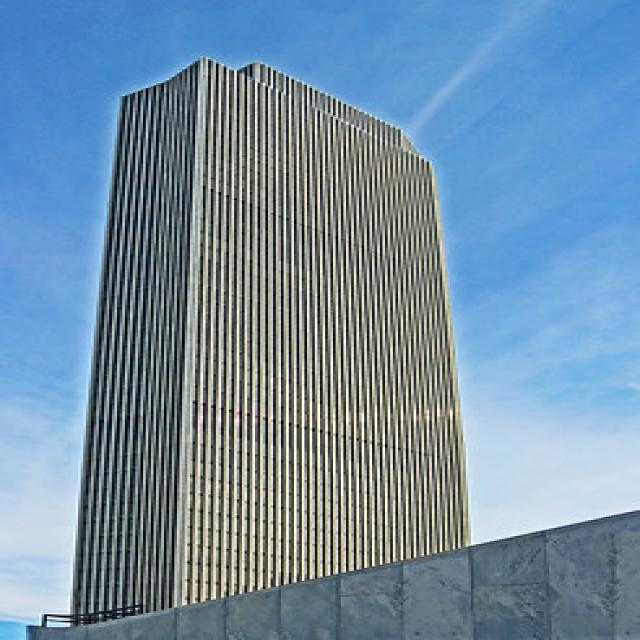Normal_building: (68, 55, 474, 604)
